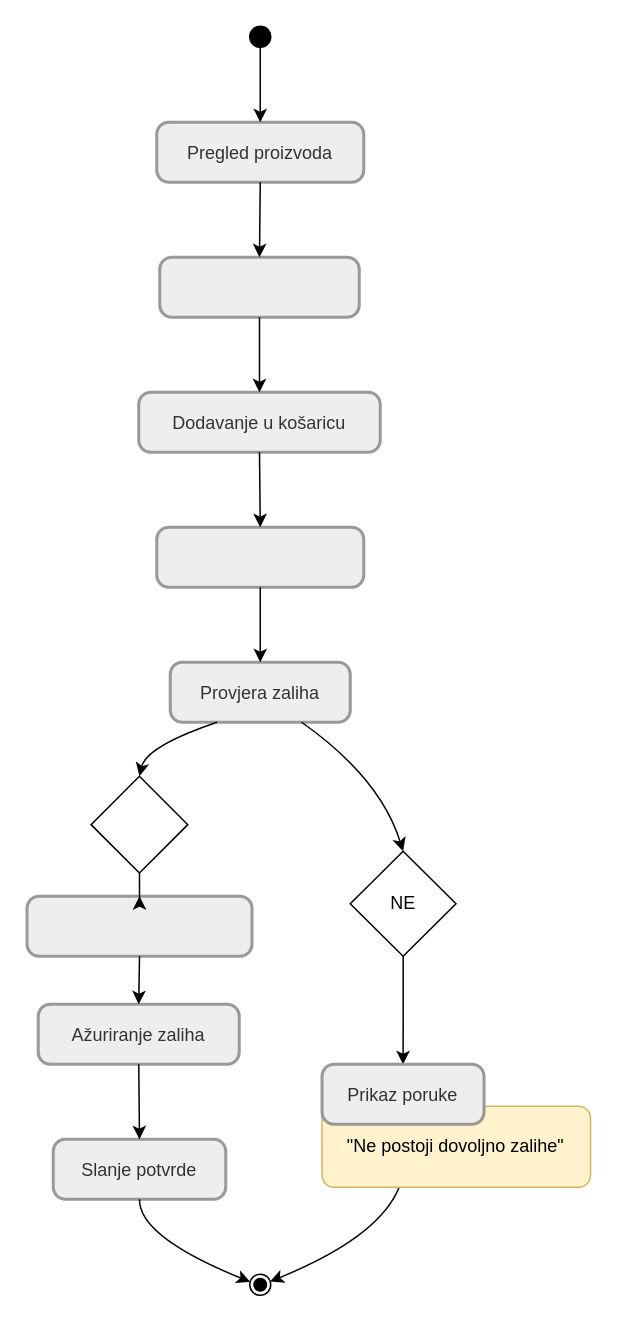
Image size: 618x1322. Some labels were removed from this diagram. The shapes that lost their labels are listed below. From the top down, each one's centre as x and y in pixels, then its label:
At point (259, 286): "Odabir proizvoda".
At point (259, 556): "Potvrda narudžbe".
At point (139, 824): "DA".
At point (139, 925): "Kreiranje narudžbe".
